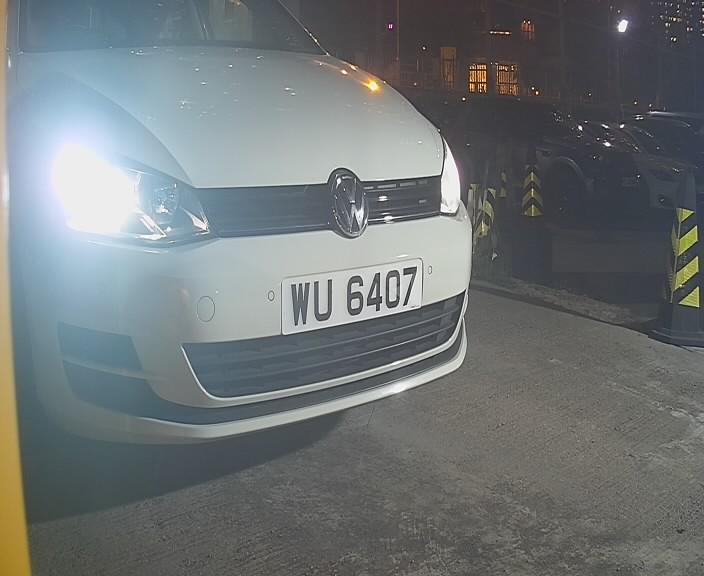License Plate: (277, 253, 434, 340)
